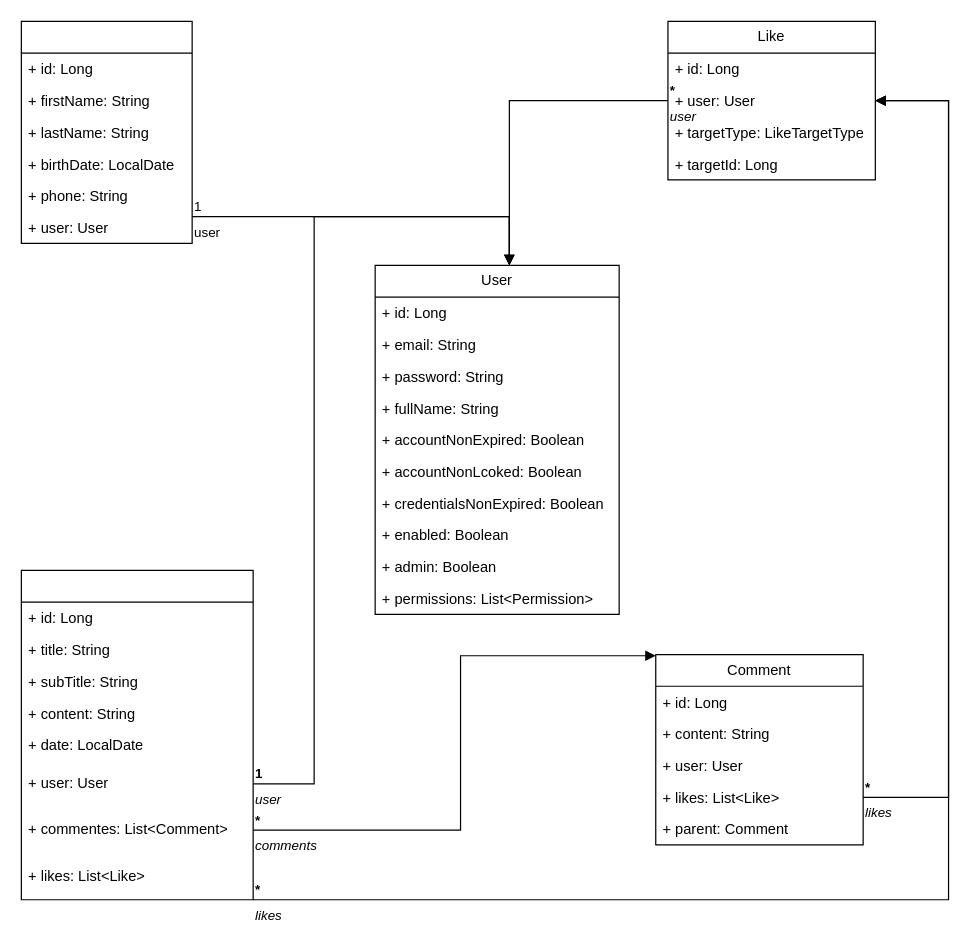
This 980x946 diagram has some shape labels left out. Each missing label, with the box of its shape:
Person: (20, 20, 192, 243)
Post: (20, 569, 253, 900)
